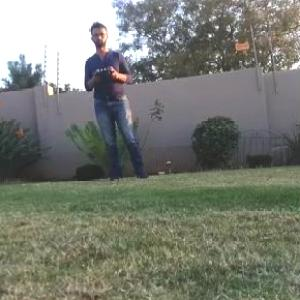follow: (81, 16, 155, 183)
